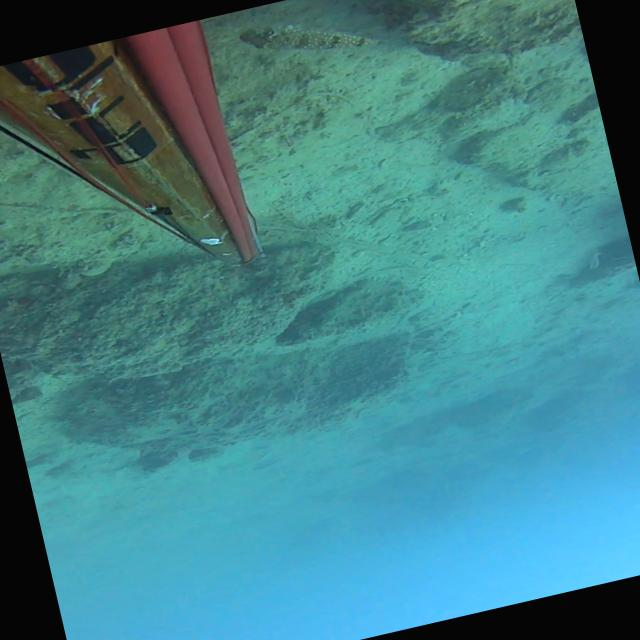Balon Baligi: (237, 0, 398, 82)
